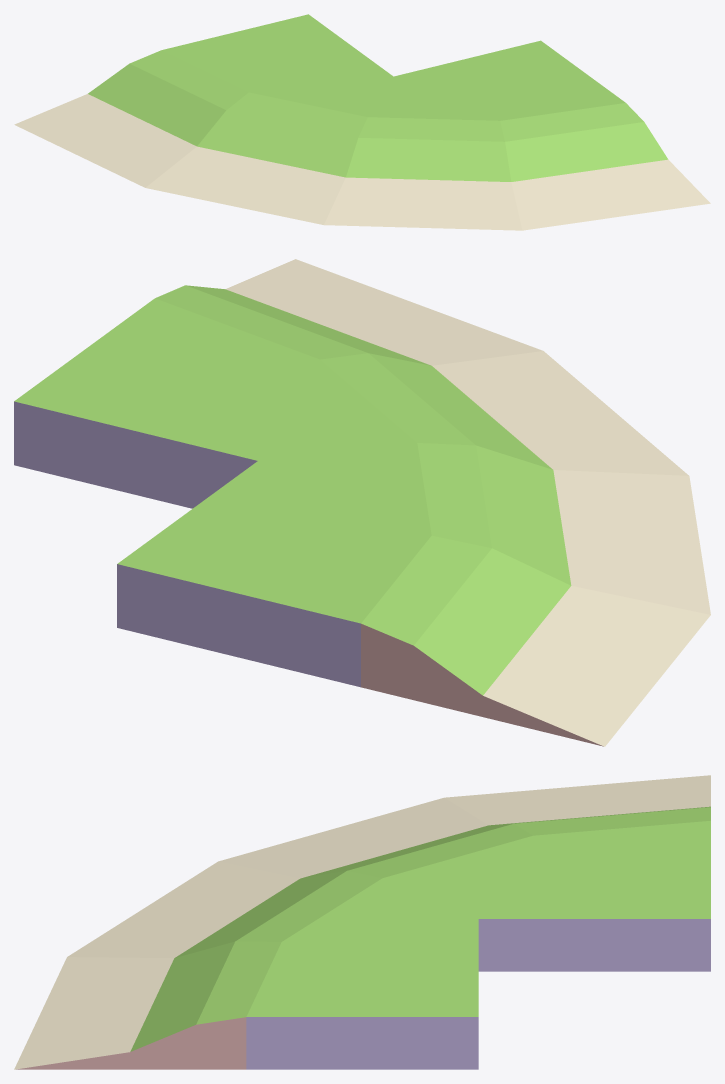
Rendered from Path_Terrain_Basic_Curve_Outer_3x3.glb.
3 renders of one model, top to bottom at view 1: azimuth 30°, elevation 25°; view 2: azimuth 150°, elevation 25°; view 3: azimuth 270°, elevation 25°, orthographic. The views are drawn at different scales.
Parts seen in each view (by area): view 1: Path_Terrain_Basic_Curve_Outer_3x3; view 2: Path_Terrain_Basic_Curve_Outer_3x3; view 3: Path_Terrain_Basic_Curve_Outer_3x3.
Boxes of the visible parts, x1,y1,x2,y2 form: Path_Terrain_Basic_Curve_Outer_3x3: (14, 14, 710, 230); Path_Terrain_Basic_Curve_Outer_3x3: (14, 259, 710, 746); Path_Terrain_Basic_Curve_Outer_3x3: (14, 775, 710, 1069).
Bounding box in the file's own units: 300 × 25 × 300.
